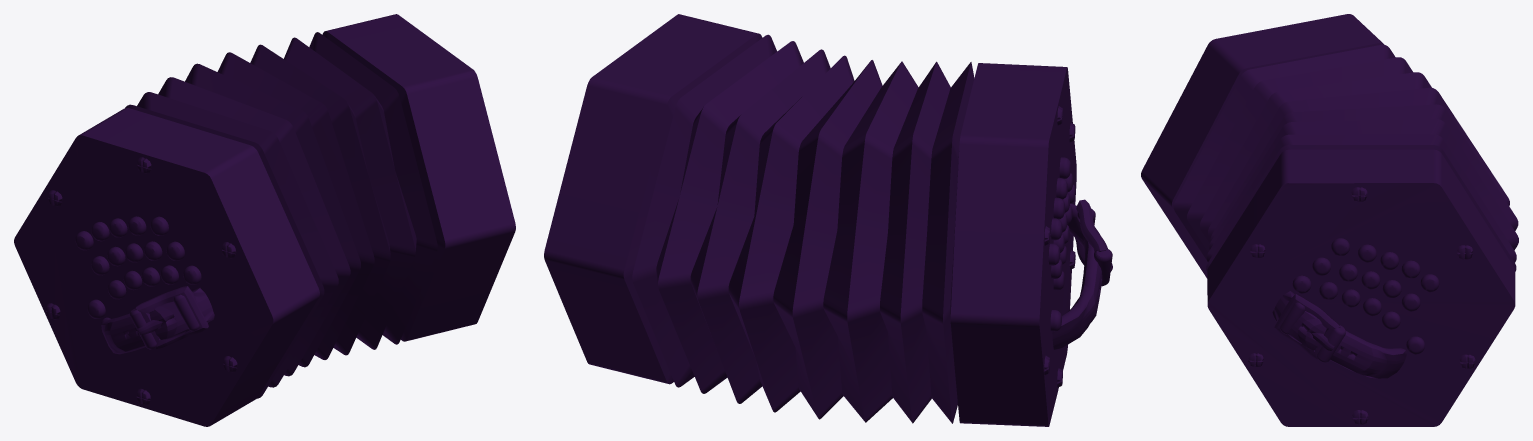
The model's file is cage02.obj.
3 views of the same model, side by side, from view 1: azimuth 30°, elevation 25°; view 2: azimuth 150°, elevation 25°; view 3: azimuth 270°, elevation 25° (orthographic). The views are drawn at different scales.
Parts seen in each view (by area): view 1: polySurface270, screwHighPoly:polySurface170 screwHighPoly:polySurface314 polySu; view 2: polySurface270, screwHighPoly:polySurface170 screwHighPoly:polySurface314 polySu; view 3: polySurface270, screwHighPoly:polySurface170 screwHighPoly:polySurface314 polySu.
Boxes of the visible parts, left/top/right/bottom form: polySurface270: left=14, top=14, right=515, bottom=426; screwHighPoly:polySurface170 screwHighPoly:polySurface314 polySu: left=46, top=157, right=237, bottom=405; polySurface270: left=544, top=14, right=1112, bottom=426; screwHighPoly:polySurface170 screwHighPoly:polySurface314 polySu: left=1044, top=106, right=1075, bottom=387; polySurface270: left=1141, top=14, right=1518, bottom=426; screwHighPoly:polySurface170 screwHighPoly:polySurface314 polySu: left=1248, top=187, right=1475, bottom=424.
Bounding box in the file's own units: 12.65 × 7.17 × 9.97.
